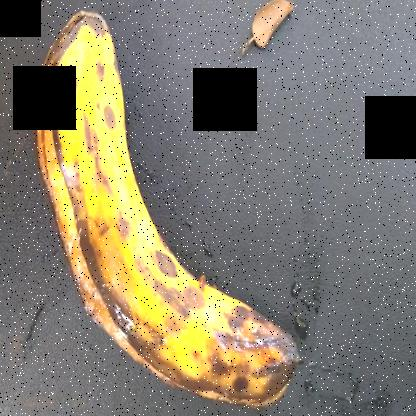rotten: (27, 9, 333, 415)
